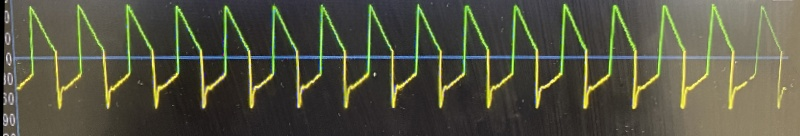peepi: (14, 0, 767, 113)
